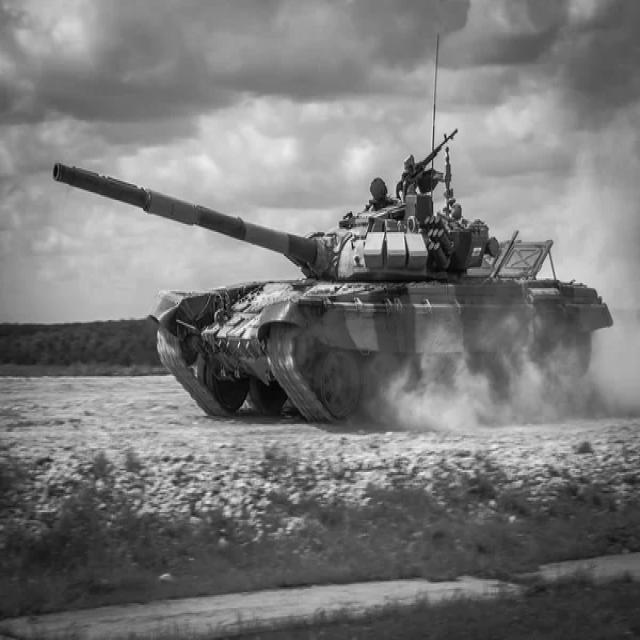Tank: (54, 128, 620, 425)
